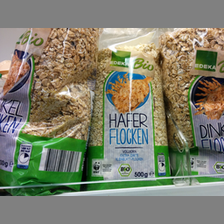cereal: (1, 29, 93, 180), (90, 49, 171, 186), (162, 29, 221, 175)
